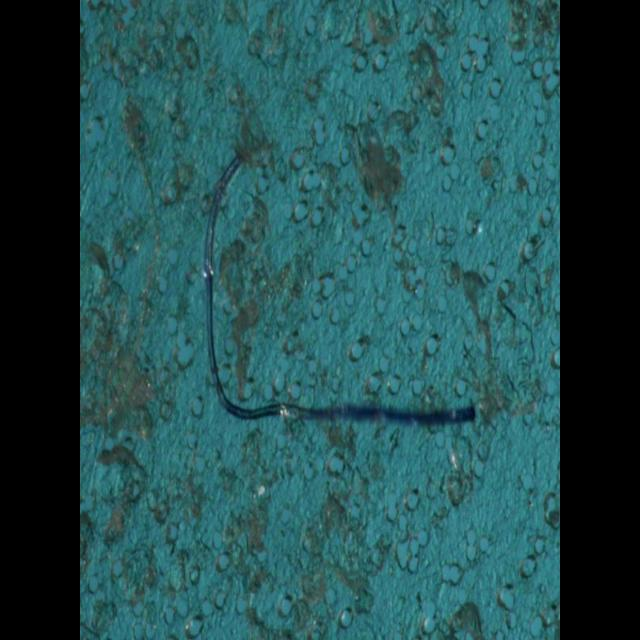Fibre: (203, 147, 477, 431)
